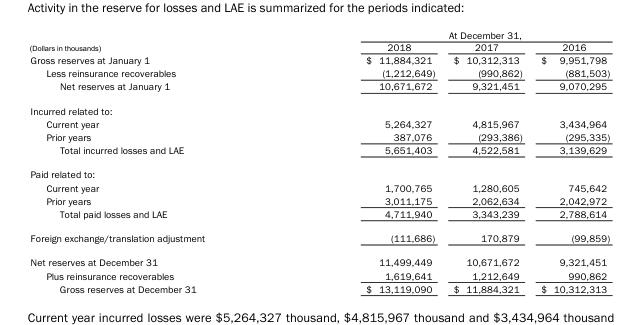table: (28, 28, 609, 293)
table column: (28, 28, 284, 293), (284, 28, 443, 293), (443, 28, 530, 293), (530, 28, 609, 293)
table column header: (28, 28, 609, 53)
table projected row header: (28, 161, 609, 180), (28, 98, 609, 116)
table row: (28, 225, 609, 249), (28, 79, 609, 98), (28, 161, 609, 180), (28, 206, 609, 225), (28, 249, 609, 268), (28, 98, 609, 116), (28, 143, 609, 161), (28, 129, 609, 143), (28, 40, 609, 53), (28, 53, 609, 66), (28, 66, 609, 79), (28, 116, 609, 129), (28, 180, 609, 193), (28, 193, 609, 206), (28, 268, 609, 281), (28, 28, 609, 40), (28, 281, 609, 293)
table spanning cell: (28, 28, 284, 53), (284, 28, 609, 40)
